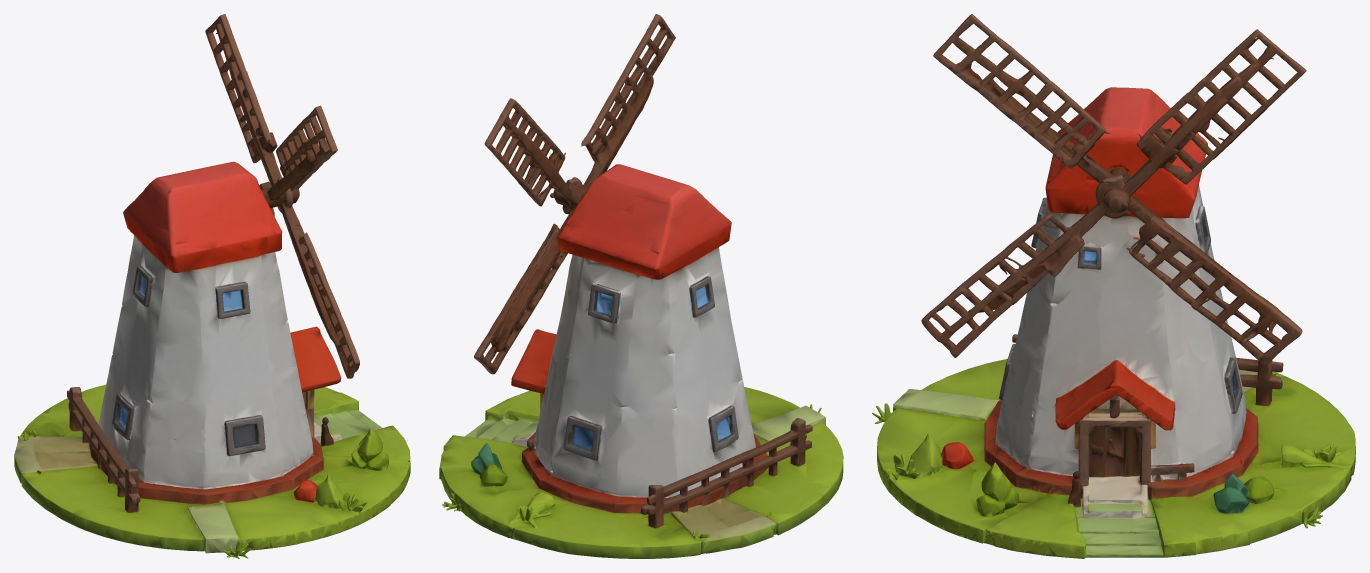
The model's file is windmill.glb.
The picture shows the model from 3 angles, left to right: view 1: azimuth 30°, elevation 25°; view 2: azimuth 150°, elevation 25°; view 3: azimuth 270°, elevation 25°; orthographic projection. The views are drawn at different scales.
Parts seen in each view (by area): view 1: tripo_node_6771526e-6326-4397-a164-ac5aa8bb5a23; view 2: tripo_node_6771526e-6326-4397-a164-ac5aa8bb5a23; view 3: tripo_node_6771526e-6326-4397-a164-ac5aa8bb5a23.
Boxes of the visible parts, x1,y1,x2,y2 form: tripo_node_6771526e-6326-4397-a164-ac5aa8bb5a23: (14, 14, 410, 558); tripo_node_6771526e-6326-4397-a164-ac5aa8bb5a23: (439, 14, 843, 558); tripo_node_6771526e-6326-4397-a164-ac5aa8bb5a23: (872, 14, 1355, 558).
Size of the model in its own units: 0.8878 by 0.9998 by 0.9243.
1 material, 1 textured.
